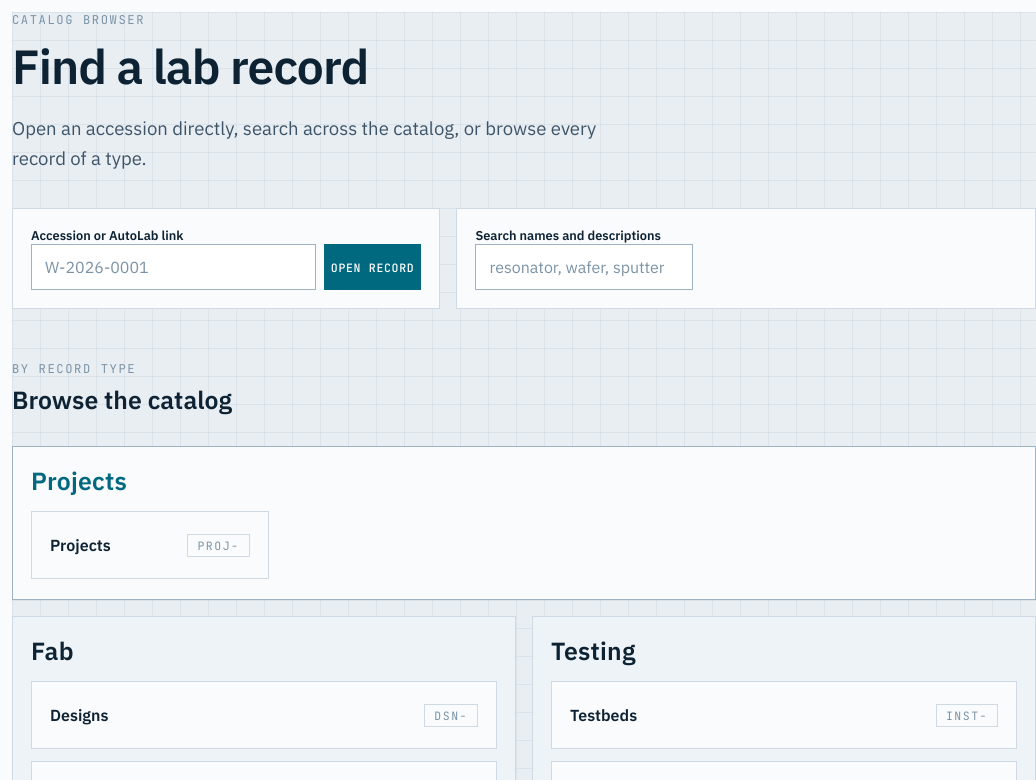
it: BrowsePage › debounces global catalog search
The width and height of the screenshot is (1036, 780).
Type "zebra" into the search field labelled "Search names and descriptions" at (584, 267), box [475, 244, 693, 290]
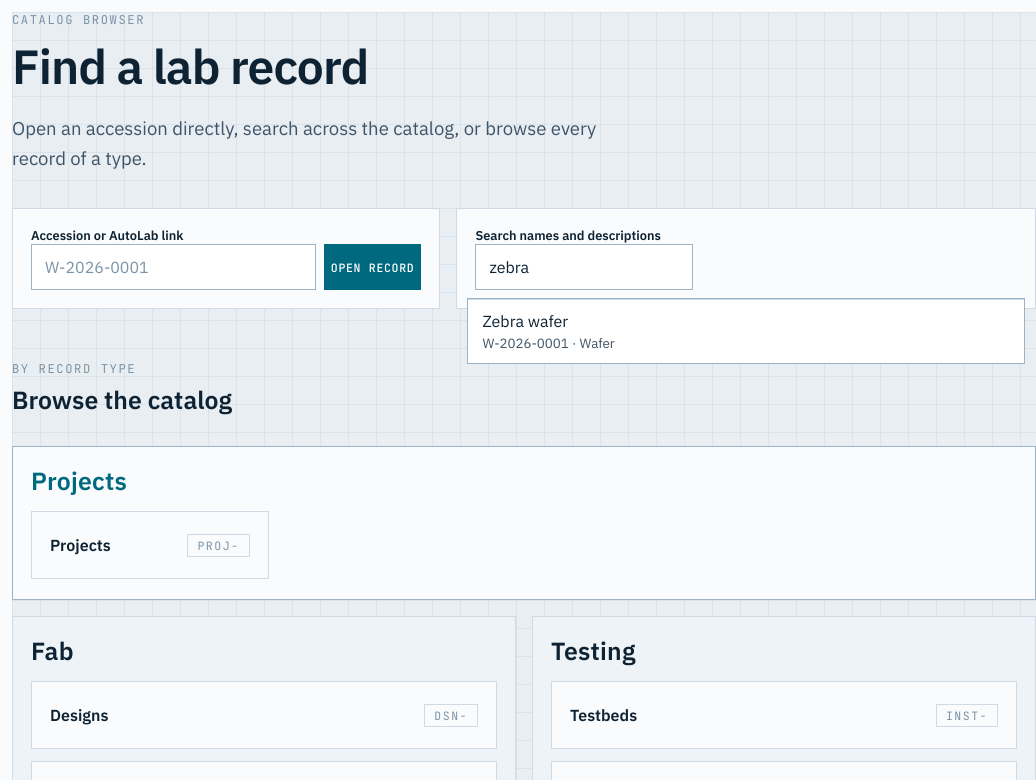
Now the link "Zebra wafer W-2026-0001 · wafer" is shown, box [468, 299, 1024, 363]
